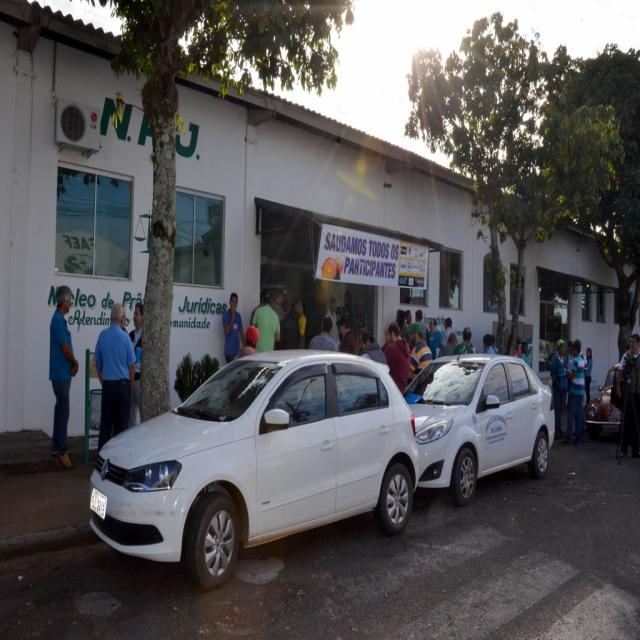car: (85, 349, 426, 581)
